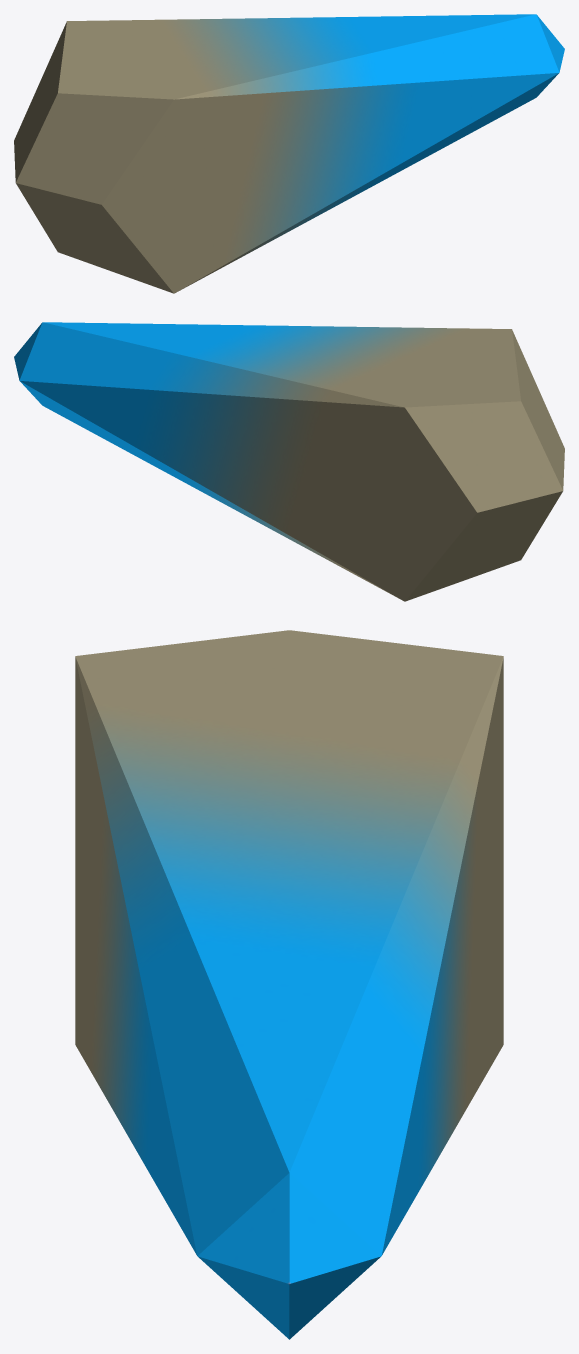
Rendered from iceStone.obj.
3 views of the same model, one above another, from view 1: azimuth 30°, elevation 25°; view 2: azimuth 150°, elevation 25°; view 3: azimuth 270°, elevation 25° (orthographic). The views are drawn at different scales.
Visible parts, largest first — view 1: Circle; view 2: Circle; view 3: Circle.
Boxes of the visible parts, left/top/right/bottom form: Circle: left=14, top=14, right=564, bottom=293; Circle: left=14, top=322, right=564, bottom=601; Circle: left=75, top=630, right=503, bottom=1339.
Size of the model in its own units: 1.87 by 0.6328 by 0.6328.
1 material, 1 textured.
